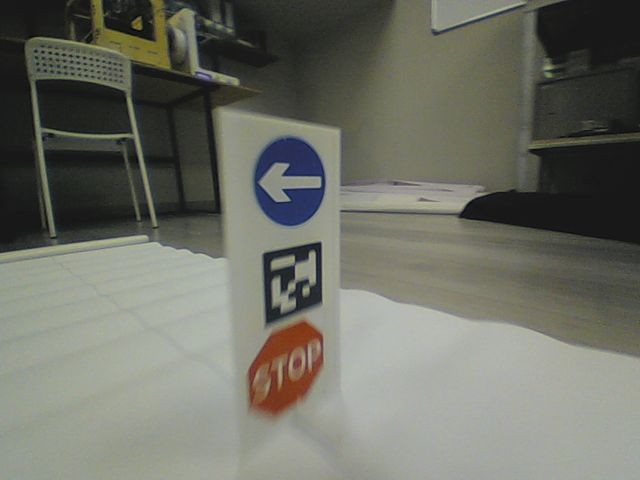Stop: (247, 322, 325, 416)
